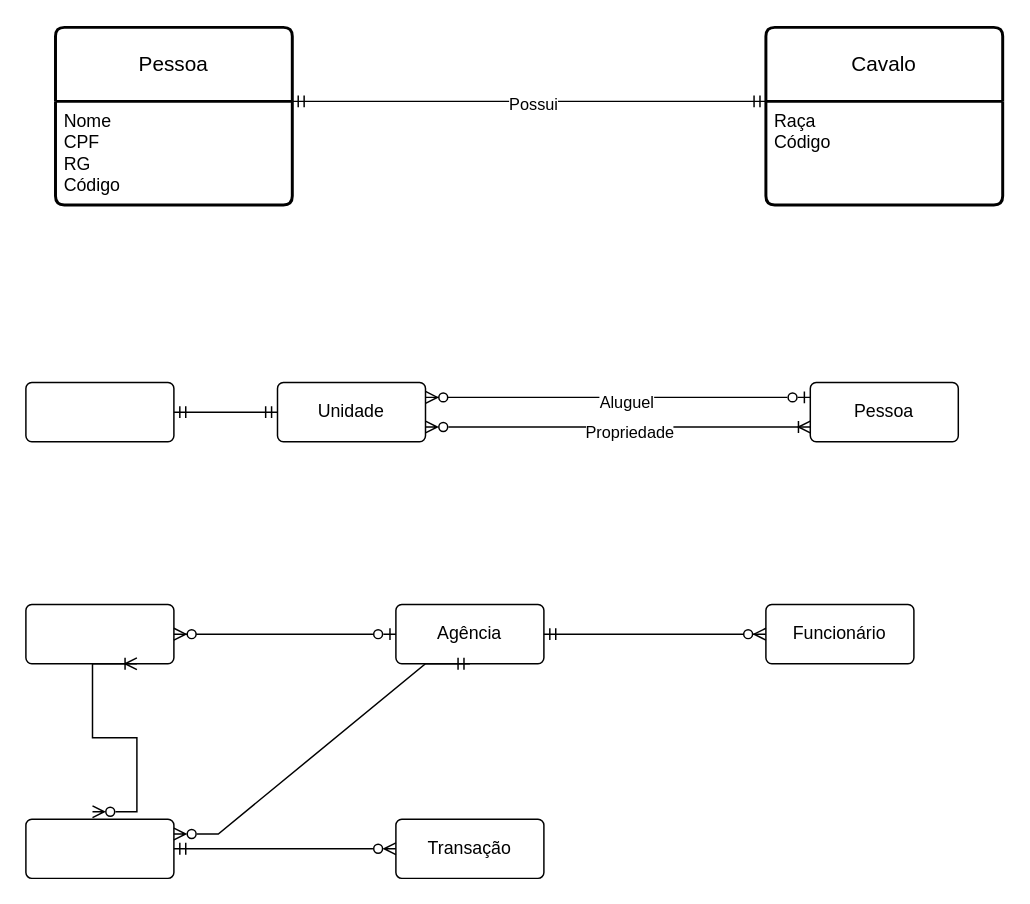
The diagram is 1030 pixels wide and 904 high, and some of its shapes have lost their labels. The centre of each missing label's shape, as x and y in pixels:
"Cliente" belongs at point 99,633.
"Condomínio" belongs at point 99,411.
"Conta" belongs at point 99,848.
